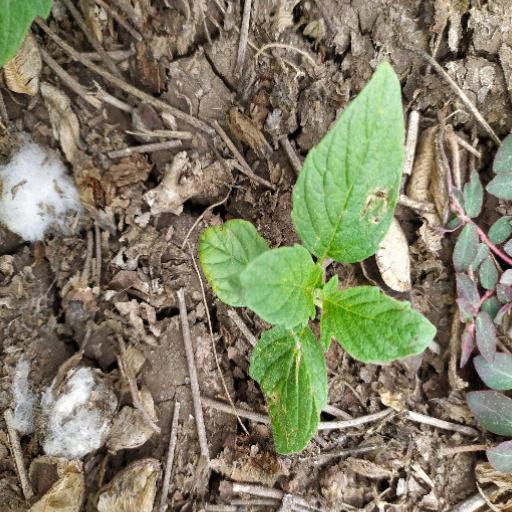crop: (189, 50, 438, 460)
